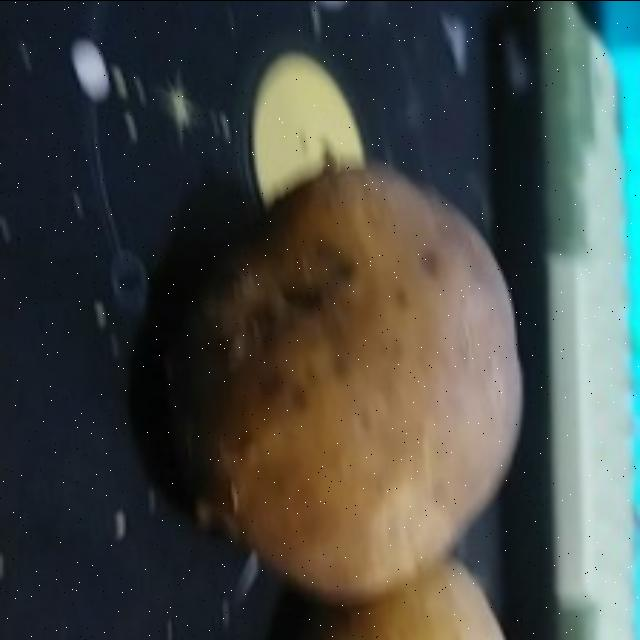Damaged potato: (195, 135, 520, 597)
